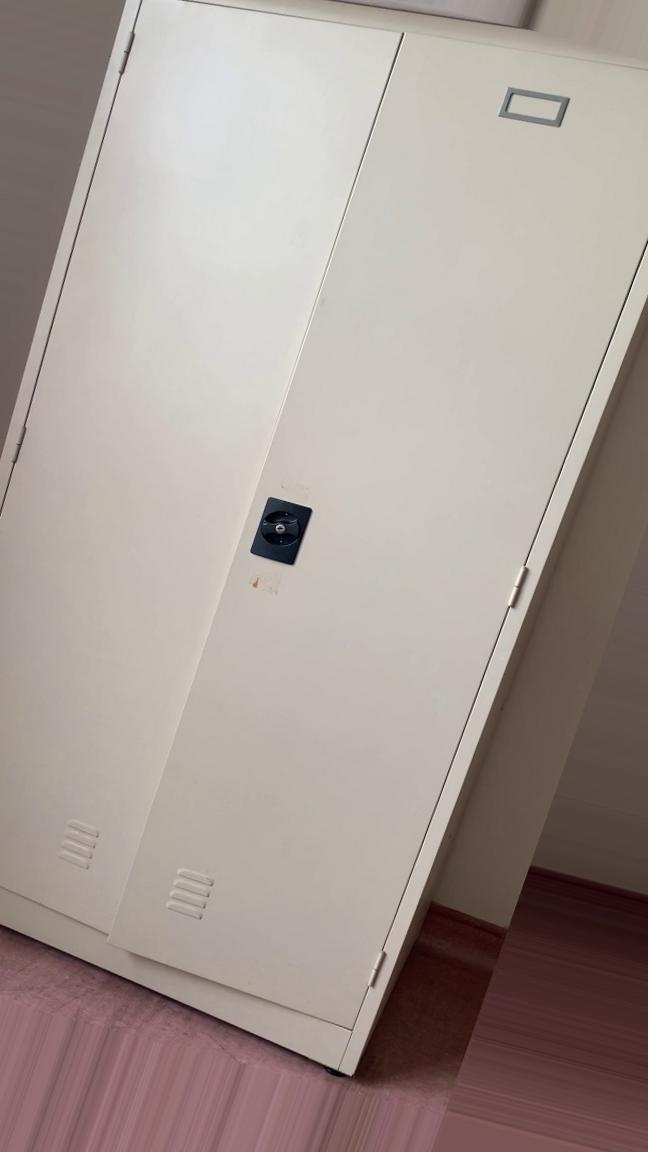Armario: (0, 8, 640, 1093)
